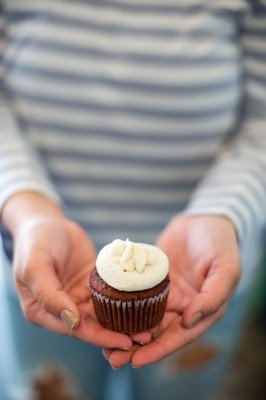sushi: (89, 239, 171, 334)
